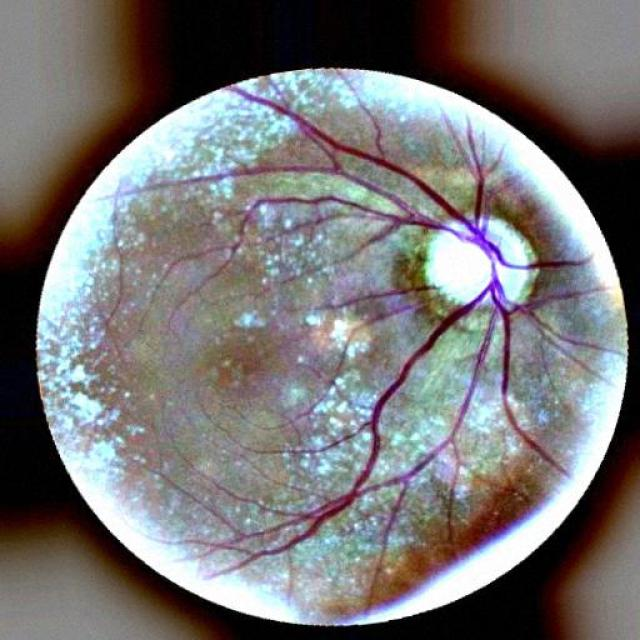Nerves: (190, 84, 618, 575)
Optic Disk: (429, 216, 529, 309)
